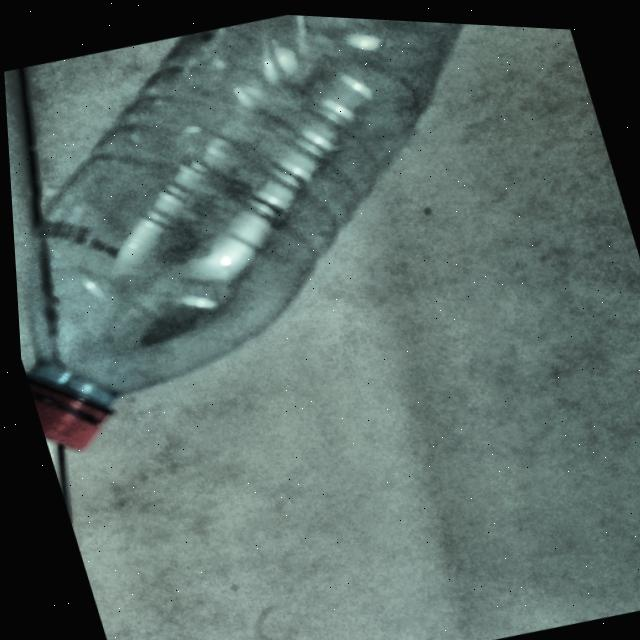plastic: (0, 0, 640, 485)
